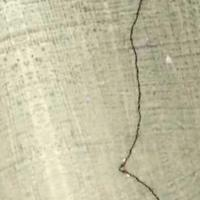crack: (101, 2, 169, 199)
